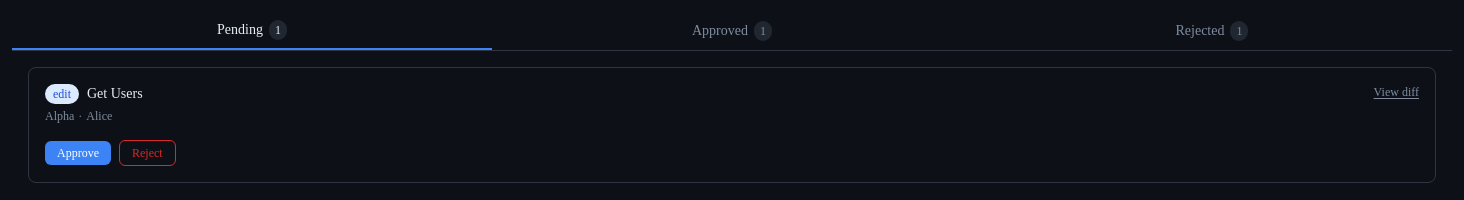
Scenario: SuggestionPanel — tabs › switches to approved tab and shows reviewer name
The width and height of the screenshot is (1464, 200).
Click the tab "approved 1". click: [732, 31]
box: [492, 12, 972, 50]
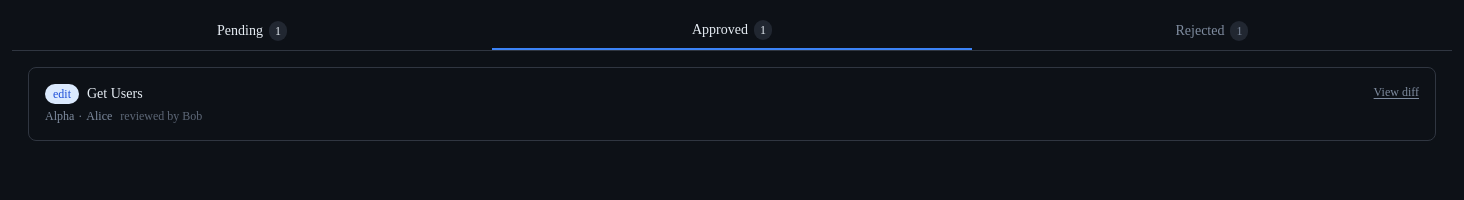
Now the text "Bob" is shown, box [182, 109, 202, 123]
